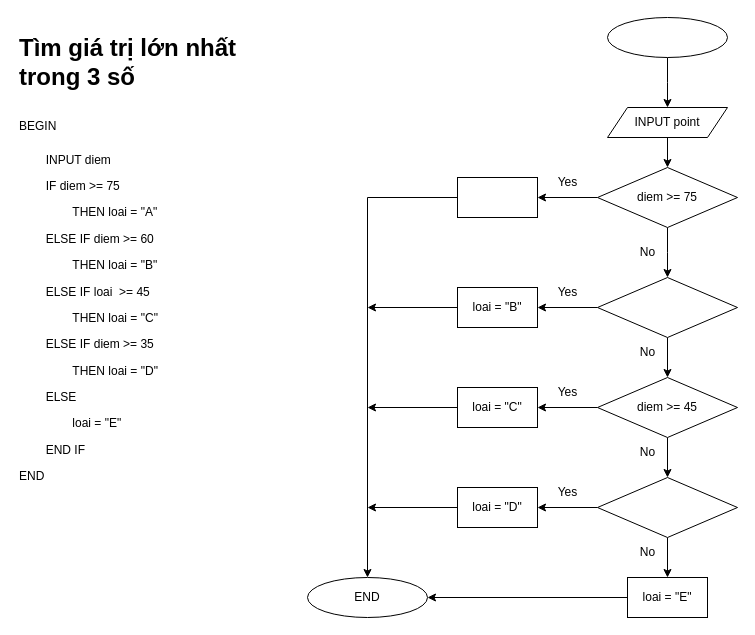
Image size: 755x635. Some labels were removed from this diagram. The centre of each missing label's shape, as x and y in pixels:
BEGIN: pixel 667 37
diem >= 35: pixel 667 507
diem >= 60: pixel 667 307
loai = "A": pixel 497 197
